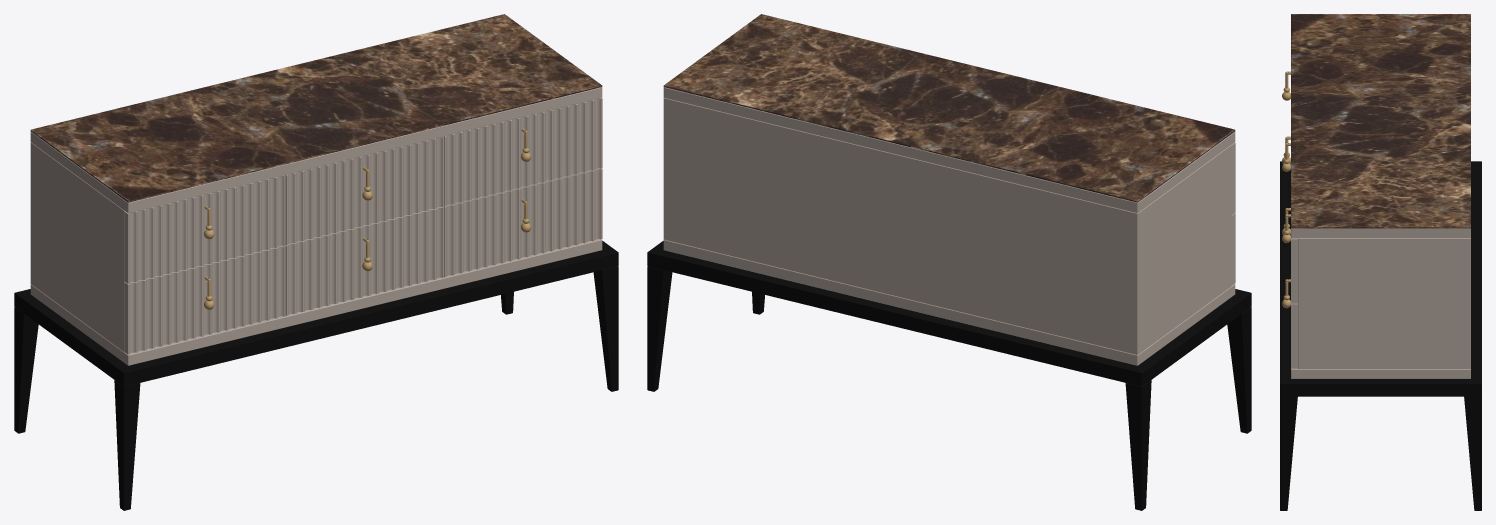
Rendered from dresser_commode_beige_alex_v.glb.
3 views of the same model, side by side, from view 1: azimuth 30°, elevation 25°; view 2: azimuth 150°, elevation 25°; view 3: azimuth 270°, elevation 25° (orthographic). The views are drawn at different scales.
Visible parts, largest first — view 1: Object_5, Object_10, Object_6, Object_8; view 2: Object_5, Object_10, Object_6; view 3: Object_10, Object_5, Object_6, Object_8.
Part boxes in pixels (left/top/right/bottom): Object_5: left=30, top=87, right=602, bottom=365; Object_10: left=30, top=14, right=602, bottom=202; Object_6: left=14, top=241, right=618, bottom=510; Object_8: left=204, top=128, right=531, bottom=309; Object_5: left=663, top=87, right=1235, bottom=365; Object_10: left=663, top=14, right=1235, bottom=202; Object_6: left=647, top=241, right=1251, bottom=510; Object_10: left=1291, top=14, right=1470, bottom=228; Object_5: left=1291, top=228, right=1470, bottom=378; Object_6: left=1280, top=161, right=1481, bottom=510; Object_8: left=1282, top=71, right=1290, bottom=308.
Bounding box in the file's own units: 1.46 × 0.855 × 0.56.
Materials: 4 (1 with a texture image).
